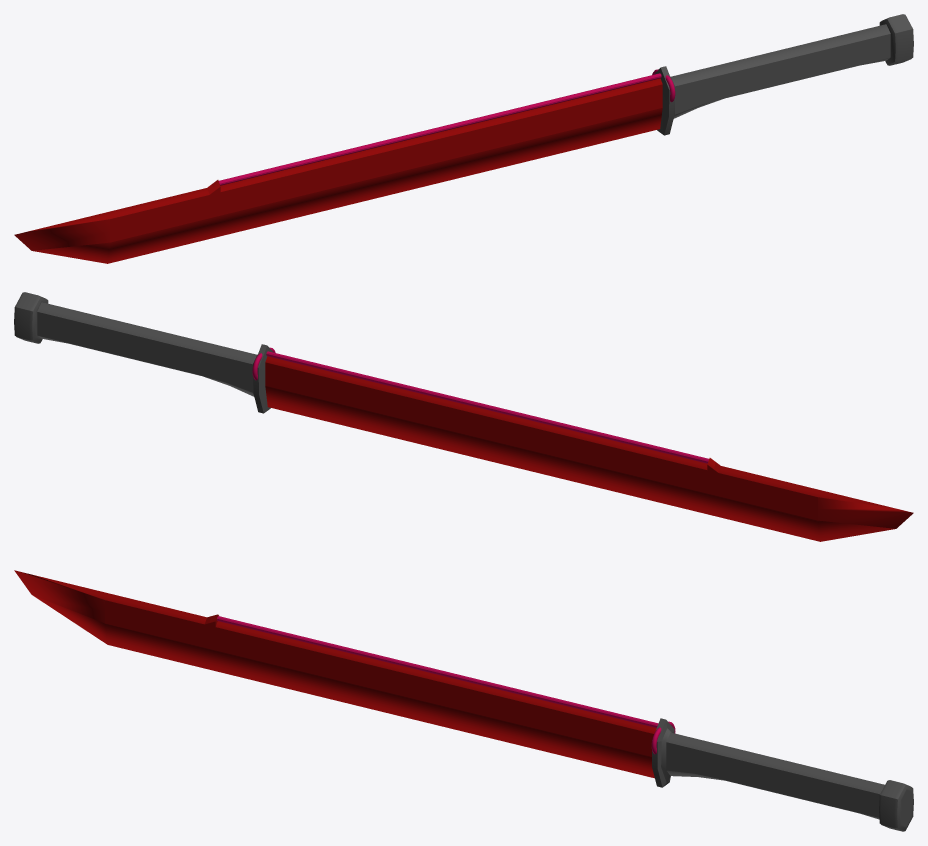
The model's file is Sword_cyber.fbx.
3 views of the same model, one above another, from view 1: azimuth 30°, elevation 25°; view 2: azimuth 150°, elevation 25°; view 3: azimuth 330°, elevation 25° (orthographic).
Parts seen in each view (by area): view 1: Blade, Hand, Main_Putki, Suojus; view 2: Blade, Hand, Main_Putki, Suojus; view 3: Blade, Hand, Main_Putki, Suojus.
Boxes of the visible parts, box(x1,y1,x2,y2) form: Blade: box(14, 78, 662, 263); Hand: box(671, 24, 890, 118); Main_Putki: box(219, 73, 661, 185); Suojus: box(654, 14, 913, 135); Blade: box(265, 356, 913, 541); Hand: box(37, 302, 256, 396); Main_Putki: box(266, 351, 708, 463); Suojus: box(14, 292, 273, 413); Blade: box(14, 570, 656, 778); Hand: box(666, 732, 884, 819); Main_Putki: box(217, 616, 658, 727); Suojus: box(652, 718, 913, 831).
Size of the model in its own units: 4.04 by 0.2832 by 0.1679.
